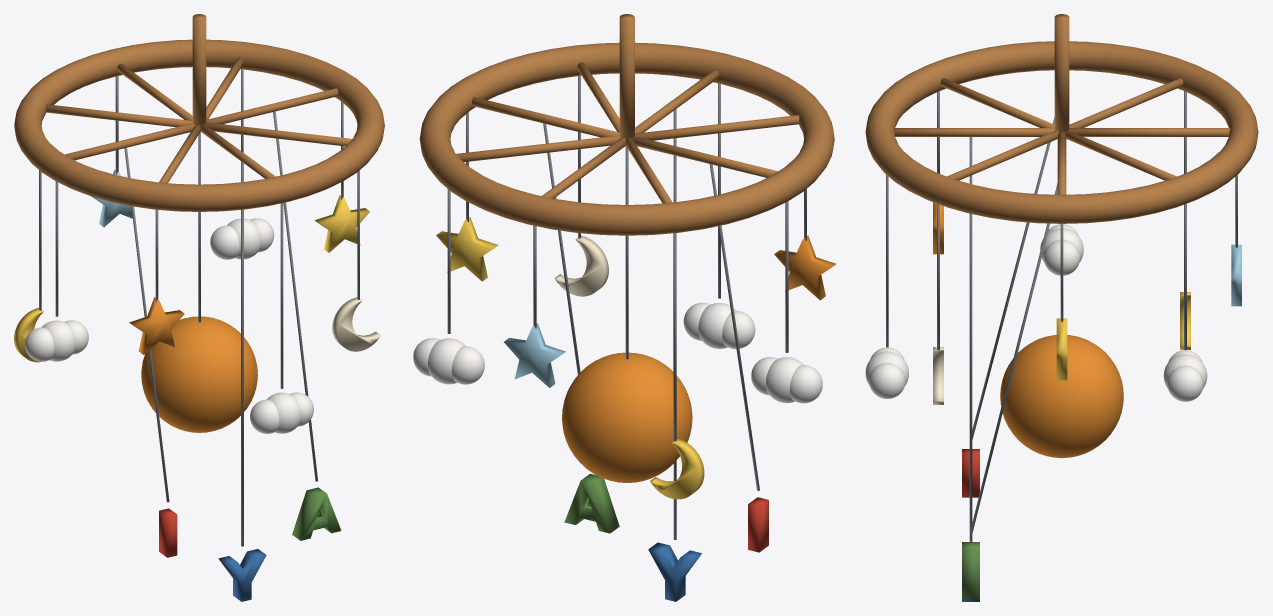
Rendered from baby-mobile.glb.
The picture shows the model from 3 angles, left to right: view 1: azimuth 30°, elevation 25°; view 2: azimuth 150°, elevation 25°; view 3: azimuth 270°, elevation 25°; orthographic projection. The views are drawn at different scales.
Parts seen in each view (by area): view 1: part0, part33, part10, part15, part11, part38, part19, part13, part36, part34, part27; view 2: part0, part33, part15, part10, part11, part38, part27, part19, part36, part13, part34; view 3: part0, part33, part10, part15, part11, part38, part34, part27, part13.
Part boxes in pixels (x1,y1,x2,y2): part0: (14,14,384,211); part33: (141,316,257,432); part10: (39,68,359,546); part15: (25,218,313,433); part11: (14,195,369,362); part38: (292,487,341,540); part19: (129,297,184,354); part13: (332,297,380,351); part36: (218,549,266,601); part34: (159,508,177,557); part27: (91,169,132,227); part0: (419,14,834,235); part33: (562,352,692,482); part15: (413,302,822,403); part10: (447,75,806,539); part11: (436,217,704,499); part38: (564,473,619,533); part27: (504,323,565,387); part19: (774,235,836,300); part36: (648,542,701,601); part13: (554,235,608,296); part34: (748,497,768,552); part0: (865,14,1258,223); part33: (1000,335,1123,458); part10: (886,91,1237,541); part15: (865,224,1207,401); part11: (1056,292,1190,380); part38: (962,542,979,598); part34: (962,449,979,497); part27: (1231,244,1241,306); part13: (933,347,943,404).
Size of the model in its own units: 0.6488 by 1 by 0.6117.
